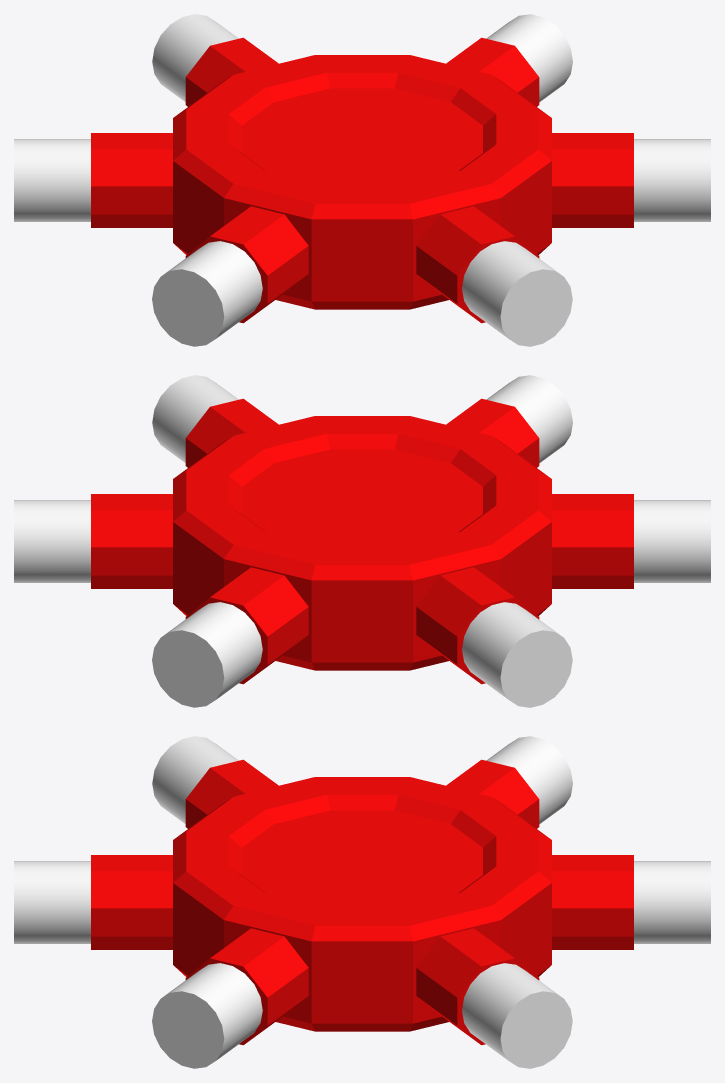
The model's file is Holo_ferme.fbx.
3 renders of one model, top to bottom at view 1: azimuth 30°, elevation 25°; view 2: azimuth 150°, elevation 25°; view 3: azimuth 270°, elevation 25°, orthographic.
Visible parts, largest first — view 1: Holo_ferme, Connexion (×6); view 2: Holo_ferme, Connexion (×6); view 3: Holo_ferme, Connexion (×6).
Part boxes in pixels (<box>): Holo_ferme: <box>91,37,633,323</box>; Connexion (×6): <box>14,14,710,346</box>; Holo_ferme: <box>91,398,633,684</box>; Connexion (×6): <box>14,375,710,707</box>; Holo_ferme: <box>91,759,633,1045</box>; Connexion (×6): <box>14,736,710,1068</box>.
Bounding box in the file's own units: 722 × 131 × 780.
